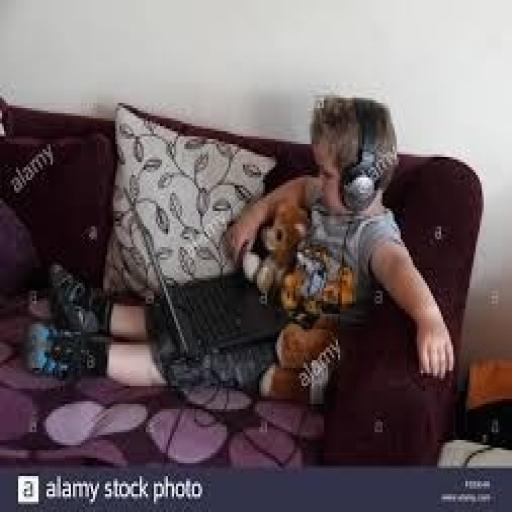using_laptop: (132, 214, 292, 360)
